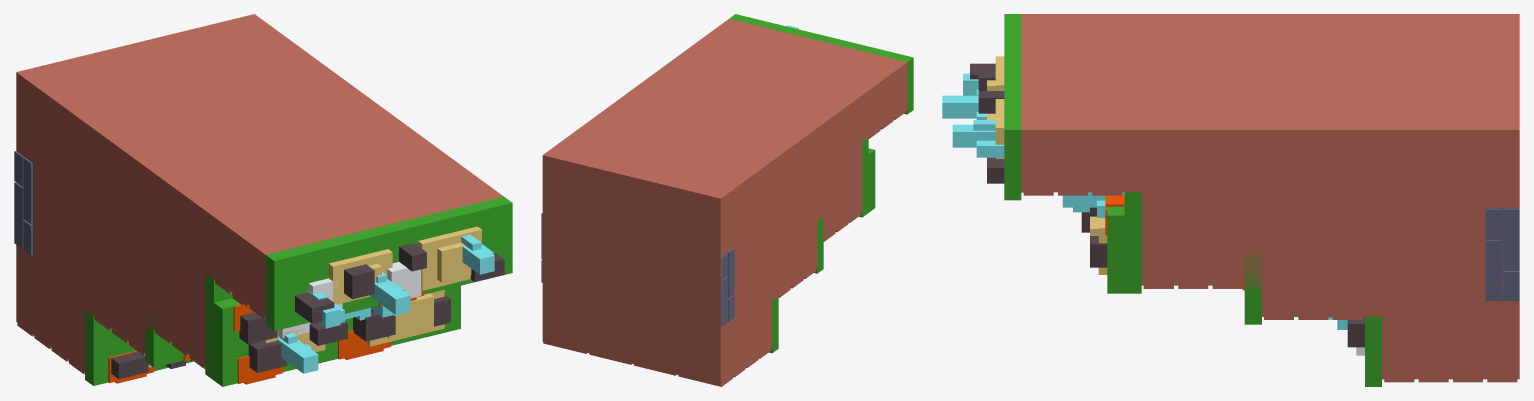
Rendered from Deco_Comun.fbx.
The picture shows the model from 3 angles, left to right: view 1: azimuth 30°, elevation 25°; view 2: azimuth 150°, elevation 25°; view 3: azimuth 270°, elevation 25°; orthographic projection. The views are drawn at different scales.
Parts seen in each view (by area): view 1: Risco_Zona1, Risco_Tapa_Zona1, Pared_Zona1, Risco_Tapa_Zona4, Pared_Tapa_Zona1, Risco_Tapa_Zona2, Pared_Tapa_Zona4, Risco_Detalle_Zona5, Pared_Tapa_Zona2, Pared_Detalle_Zona4, Losas_Larga_Piedra_Zona1, Pared_Detalle_Zona5 (+2 smaller); view 2: Risco_Zona1, Pared_Zona1, Risco_Tapa_Zona1, Losas_Larga_Piedra_Zona1, Pared_Tapa_Zona1; view 3: Risco_Zona1, Pared_Zona1, Risco_Tapa_Zona1, Risco_Detalle_Zona5, Losas_Larga_Piedra_Zona1, Pared_Tapa_Zona1, Risco_Tapa_Zona4, Risco_Tapa_Zona2, Pared_Tapa_Zona4.
Boxes of the visible parts, box(x1,y1,x2,y2) form: Risco_Zona1: box(16, 14, 503, 374); Risco_Tapa_Zona1: box(85, 196, 512, 385); Pared_Zona1: box(24, 176, 205, 368); Risco_Tapa_Zona4: box(111, 243, 504, 378); Pared_Tapa_Zona1: box(205, 285, 460, 386); Risco_Tapa_Zona2: box(148, 226, 481, 367); Pared_Tapa_Zona4: box(248, 295, 450, 372); Risco_Detalle_Zona5: box(205, 234, 494, 369); Pared_Tapa_Zona2: box(263, 289, 444, 352); Pared_Detalle_Zona4: box(232, 296, 391, 384); Losas_Larga_Piedra_Zona1: box(14, 150, 33, 255); Pared_Detalle_Zona5: box(277, 305, 405, 373); Risco_Zona1: box(542, 18, 907, 386); Pared_Zona1: box(542, 165, 862, 314); Risco_Tapa_Zona1: box(729, 14, 913, 353); Losas_Larga_Piedra_Zona1: box(541, 213, 734, 326); Pared_Tapa_Zona1: box(859, 148, 875, 217); Risco_Zona1: box(1021, 14, 1519, 382); Pared_Zona1: box(1141, 220, 1519, 288); Risco_Tapa_Zona1: box(1004, 14, 1381, 386); Risco_Detalle_Zona5: box(942, 73, 1347, 329); Losas_Larga_Piedra_Zona1: box(1485, 208, 1519, 301); Pared_Tapa_Zona1: box(1107, 206, 1141, 293); Risco_Tapa_Zona4: box(970, 63, 1364, 347); Risco_Tapa_Zona2: box(987, 56, 1383, 379); Pared_Tapa_Zona4: box(1081, 212, 1107, 267).
Size of the model in its own units: 4.55 by 4.66 by 9.41.
